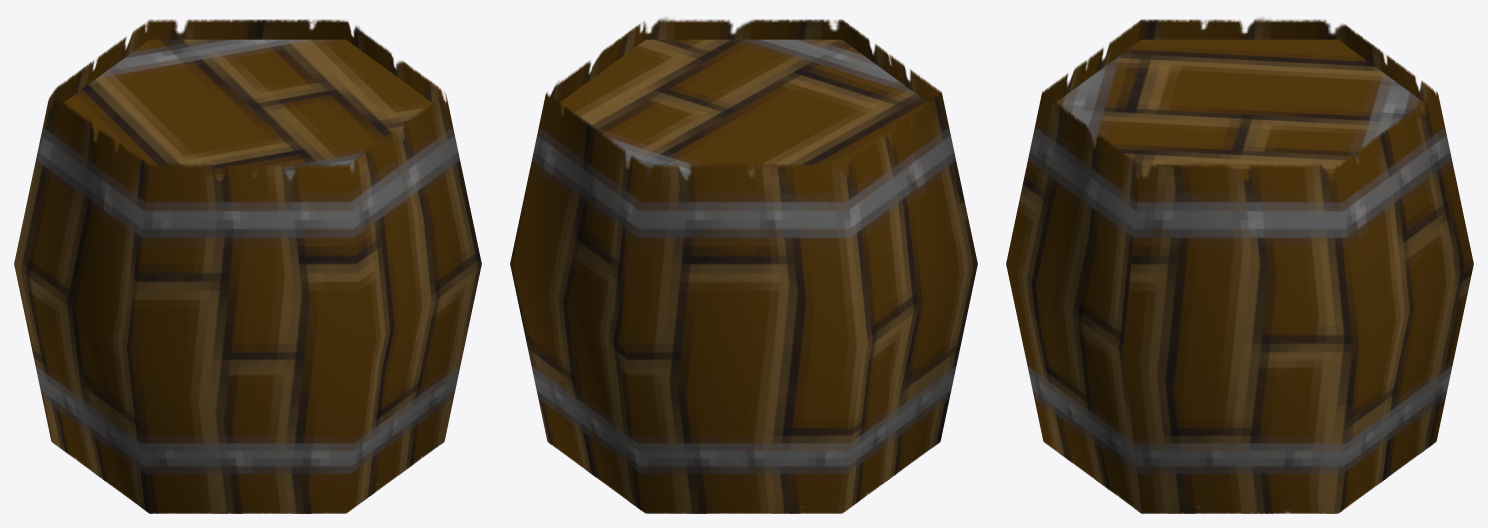
File: Tonneau.glb
3 renders of one model, left to right at view 1: azimuth 30°, elevation 25°; view 2: azimuth 150°, elevation 25°; view 3: azimuth 270°, elevation 25°, orthographic.
Parts seen in each view (by area): view 1: Circle; view 2: Circle; view 3: Circle.
Part boxes in pixels (left/top/right/bottom): Circle: left=14, top=19, right=481, bottom=513; Circle: left=510, top=18, right=977, bottom=513; Circle: left=1006, top=18, right=1473, bottom=513.
Bounding box in the file's own units: 1.03 × 1 × 1.19.
Materials: 1 (1 with a texture image).
